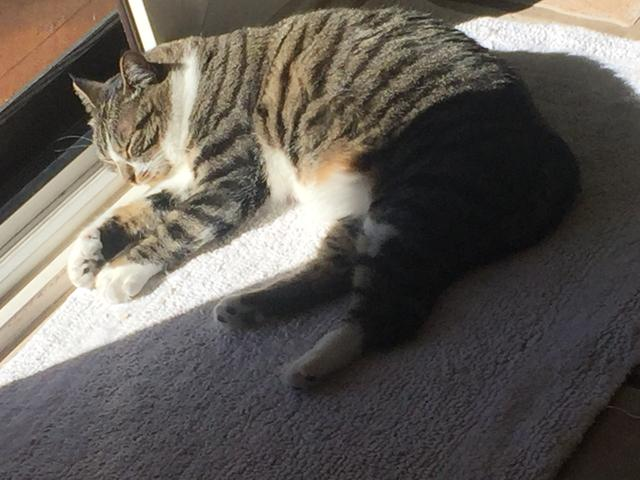playdoh: (61, 6, 582, 399)
